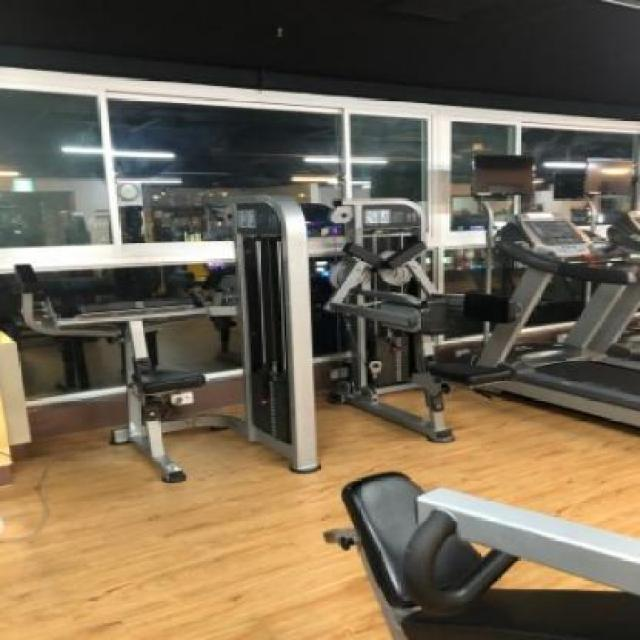lateral raises machine: (322, 196, 523, 447)
